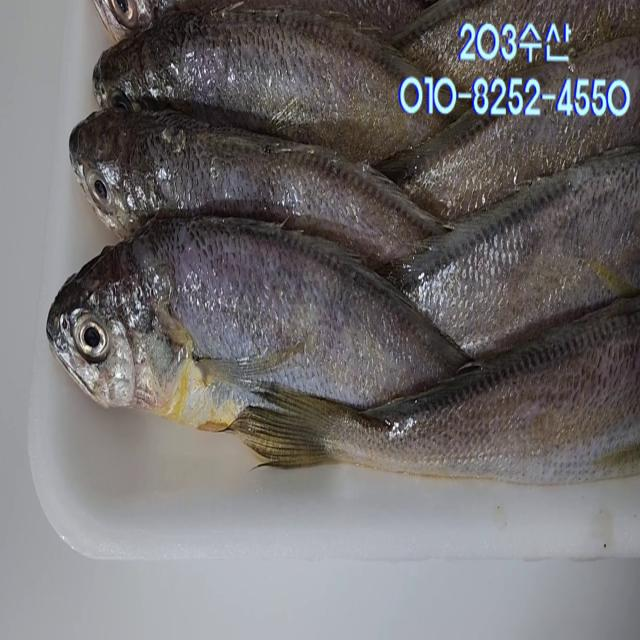Wet: (44, 215, 468, 424), (251, 299, 640, 480), (92, 4, 407, 163), (66, 105, 417, 236)
